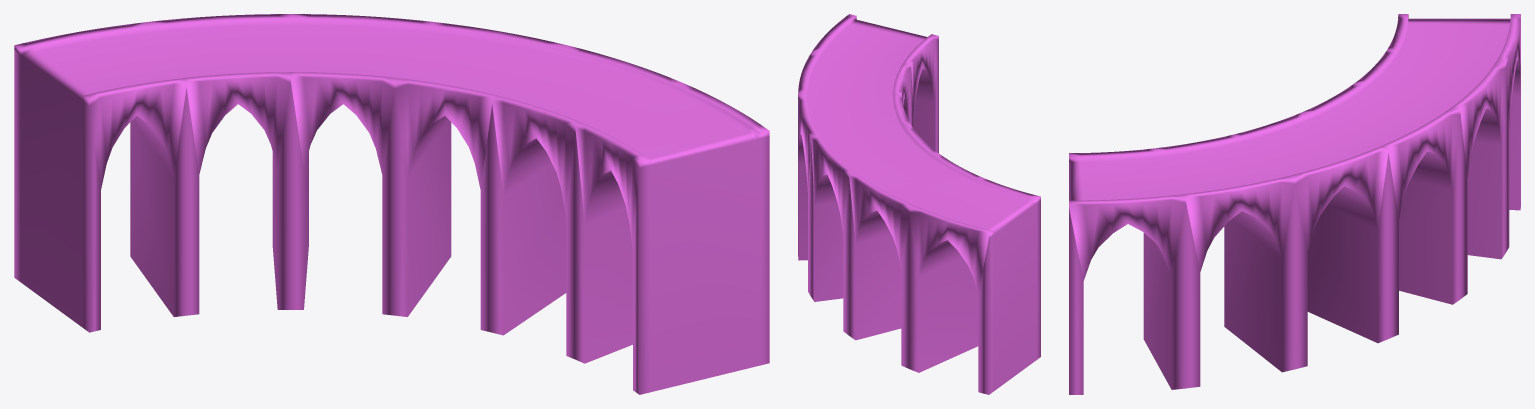
Rendered from RD_Arch_x6_Tall_90.fbx.
3 renders of one model, left to right at view 1: azimuth 30°, elevation 25°; view 2: azimuth 150°, elevation 25°; view 3: azimuth 270°, elevation 25°, orthographic. The views are drawn at different scales.
Visible parts, largest first — view 1: RD_Arch_x6_Tall_90; view 2: RD_Arch_x6_Tall_90; view 3: RD_Arch_x6_Tall_90.
Boxes of the visible parts, x1,y1,x2,y2 form: RD_Arch_x6_Tall_90: (14, 14, 769, 394); RD_Arch_x6_Tall_90: (798, 14, 1040, 394); RD_Arch_x6_Tall_90: (1069, 14, 1520, 394).
Bounding box in the file's own units: 1768 × 820 × 1768.
